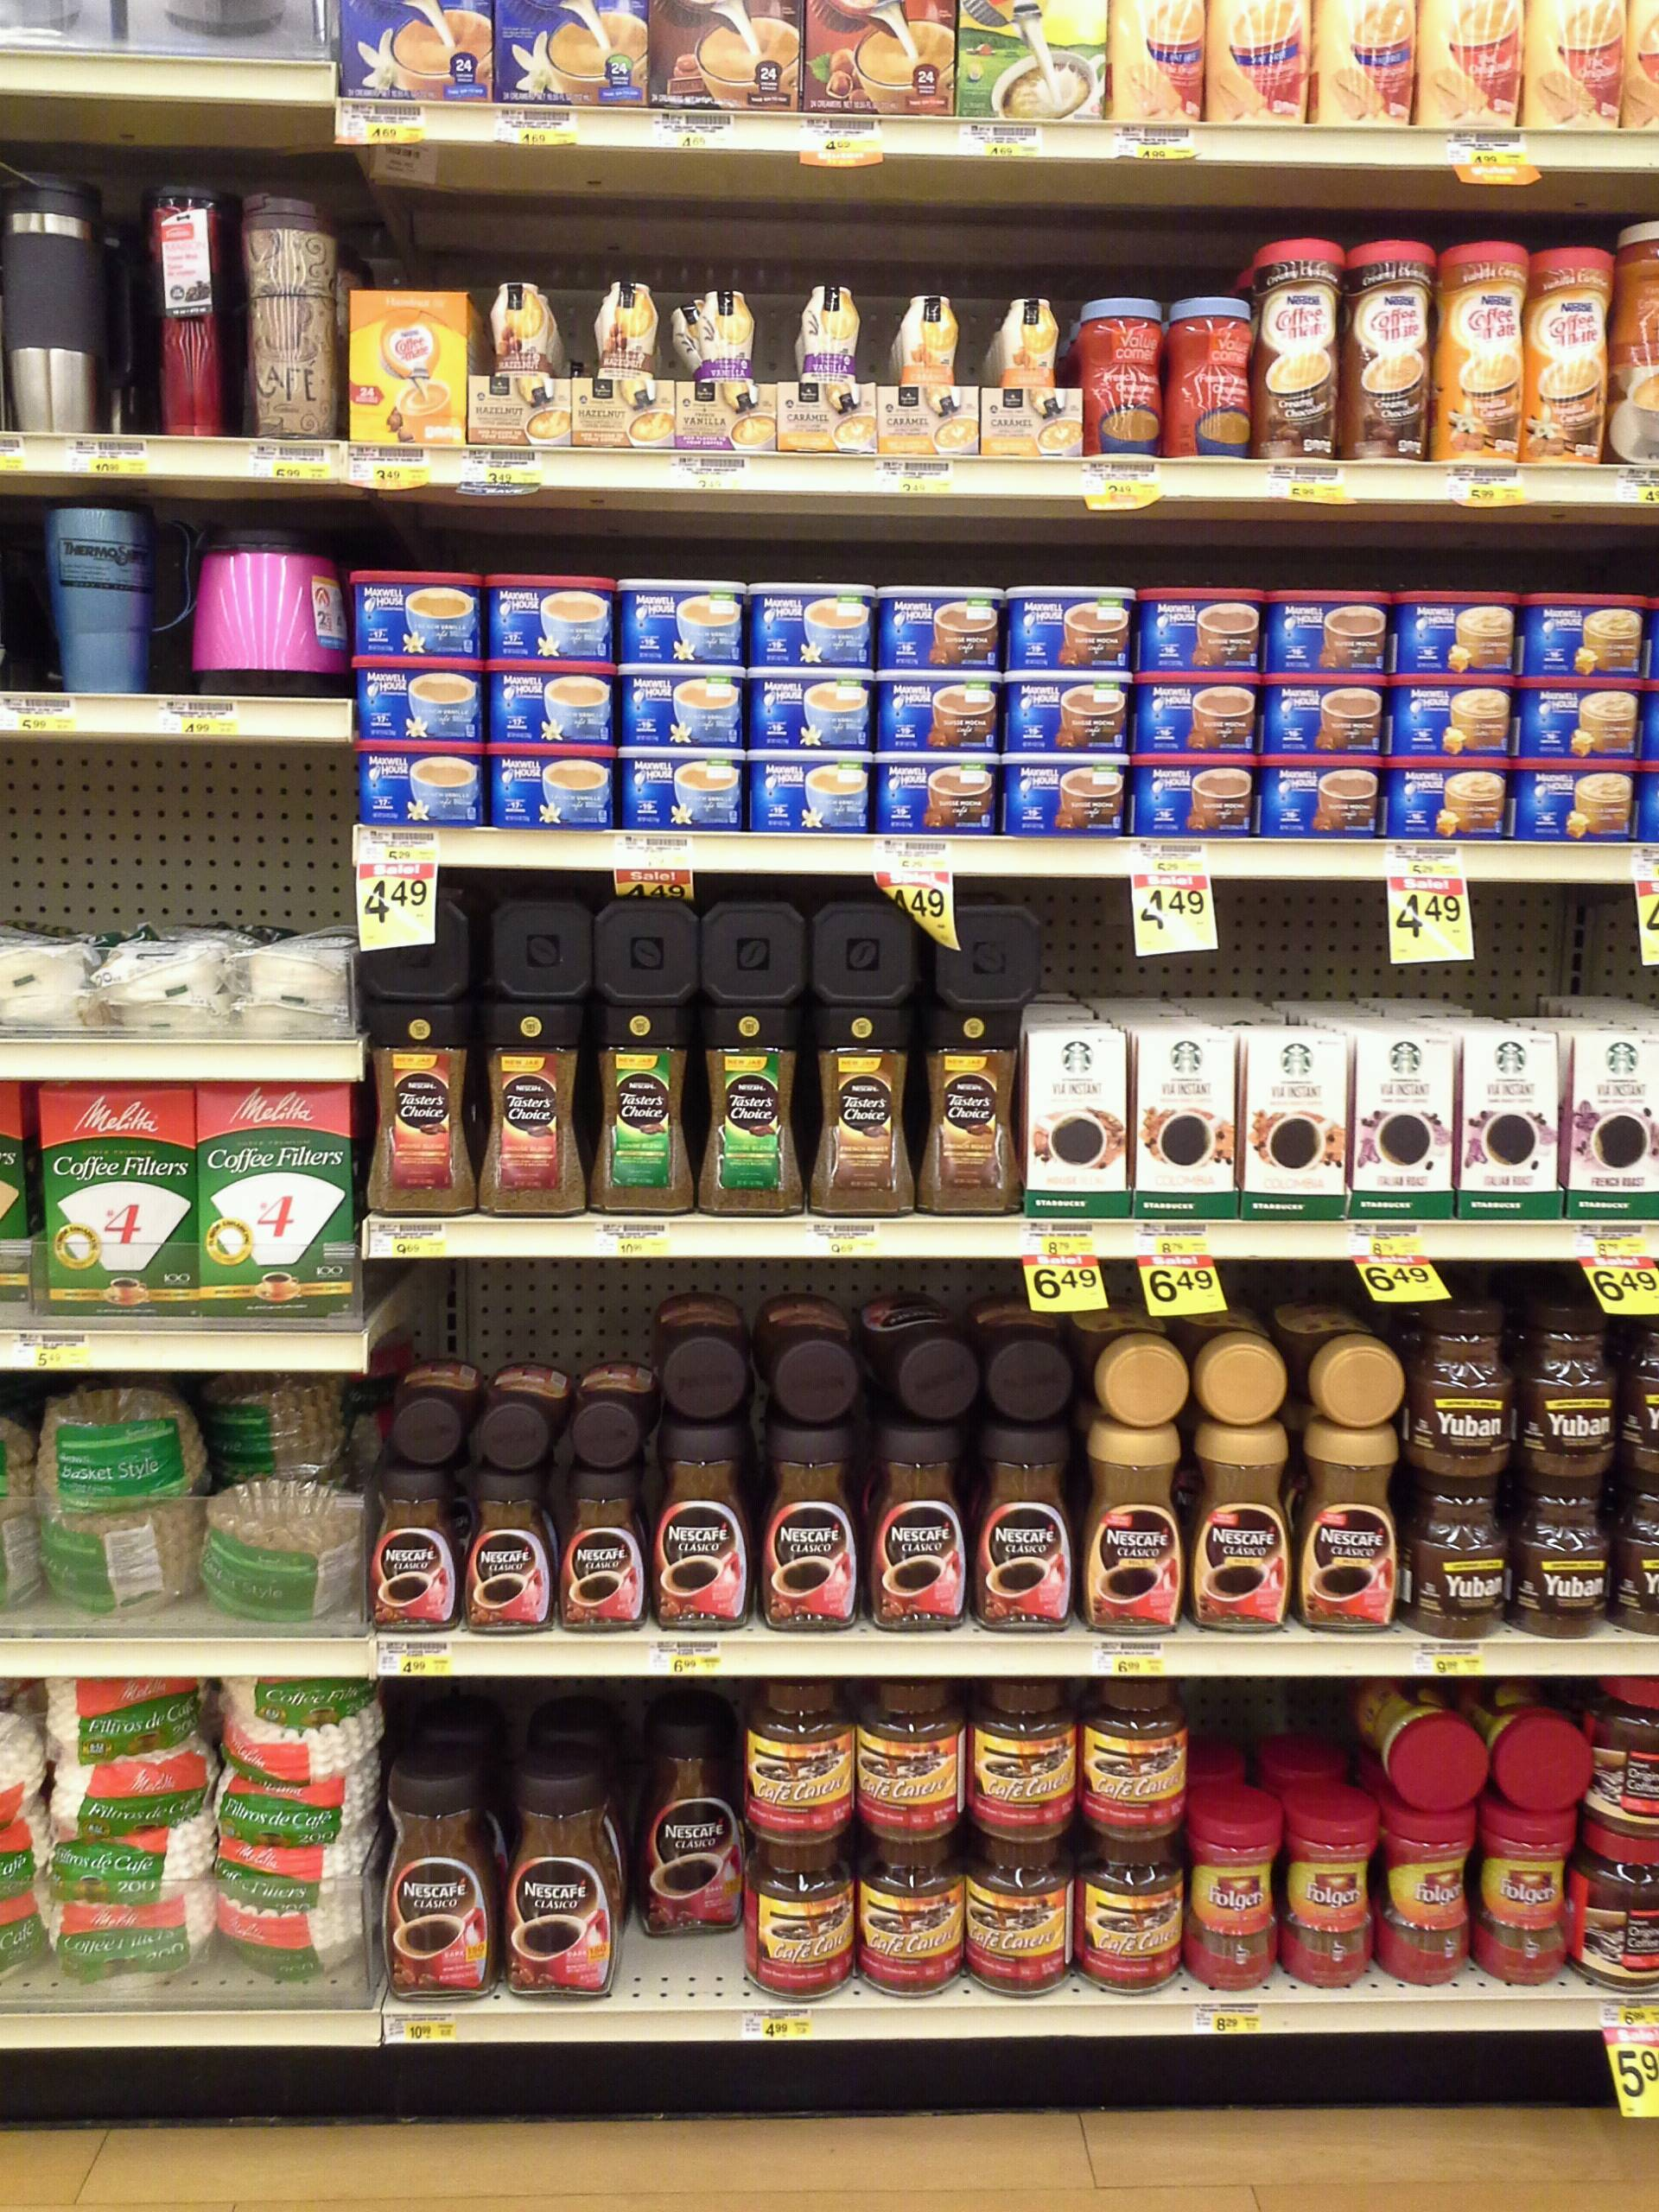Misplacement: (624, 1677, 741, 2006)
